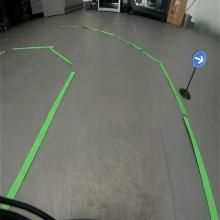right: (192, 50, 206, 68)
